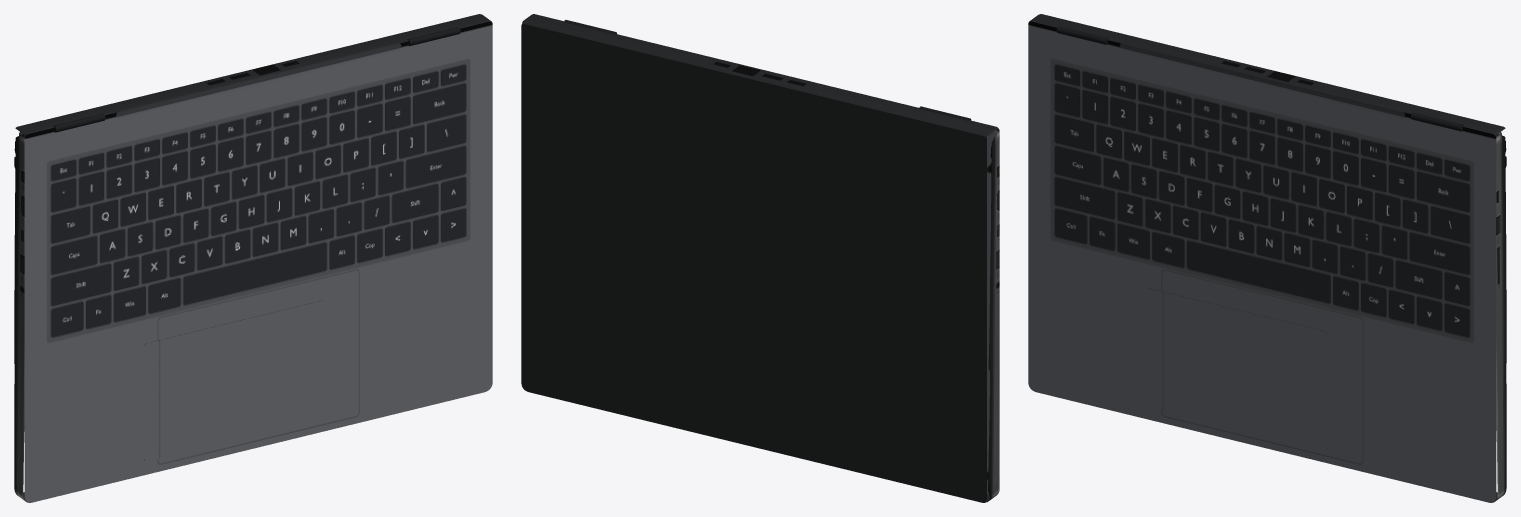
The model's file is body.obj.
3 views of the same model, side by side, from view 1: azimuth 30°, elevation 25°; view 2: azimuth 150°, elevation 25°; view 3: azimuth 330°, elevation 25° (orthographic).
Parts seen in each view (by area): view 1: deck, base, base.002, hinge; view 2: base.003, base, base.002, deck; view 3: deck, base, base.001, hinge.
Boxes of the visible parts, x1,y1,x2,y2 form: deck: [24, 21, 492, 502]; base: [15, 14, 491, 502]; base.002: [14, 132, 25, 500]; hinge: [53, 27, 460, 132]; base.003: [521, 23, 986, 502]; base: [522, 14, 998, 502]; base.002: [987, 128, 999, 500]; deck: [986, 132, 999, 494]; deck: [1028, 21, 1496, 502]; base: [1029, 14, 1505, 502]; base.001: [1495, 132, 1506, 500]; hinge: [1056, 26, 1463, 131].
Size of the model in its own units: 356 by 270 by 17.15.
